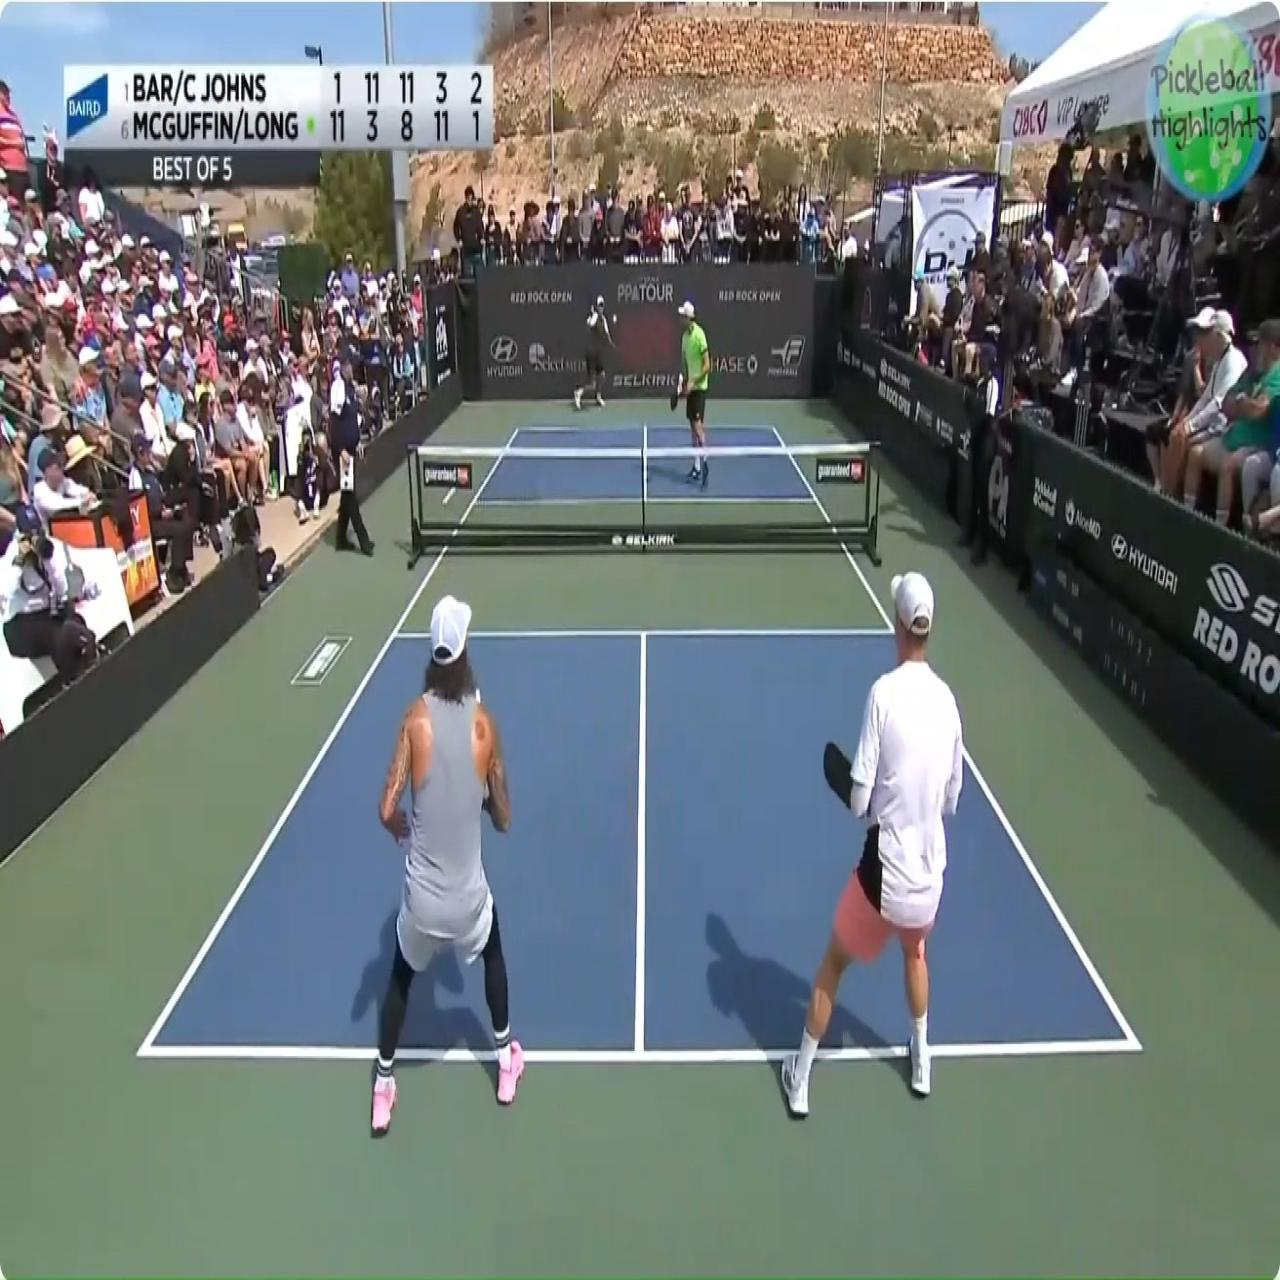pickleball: (613, 313, 617, 325)
